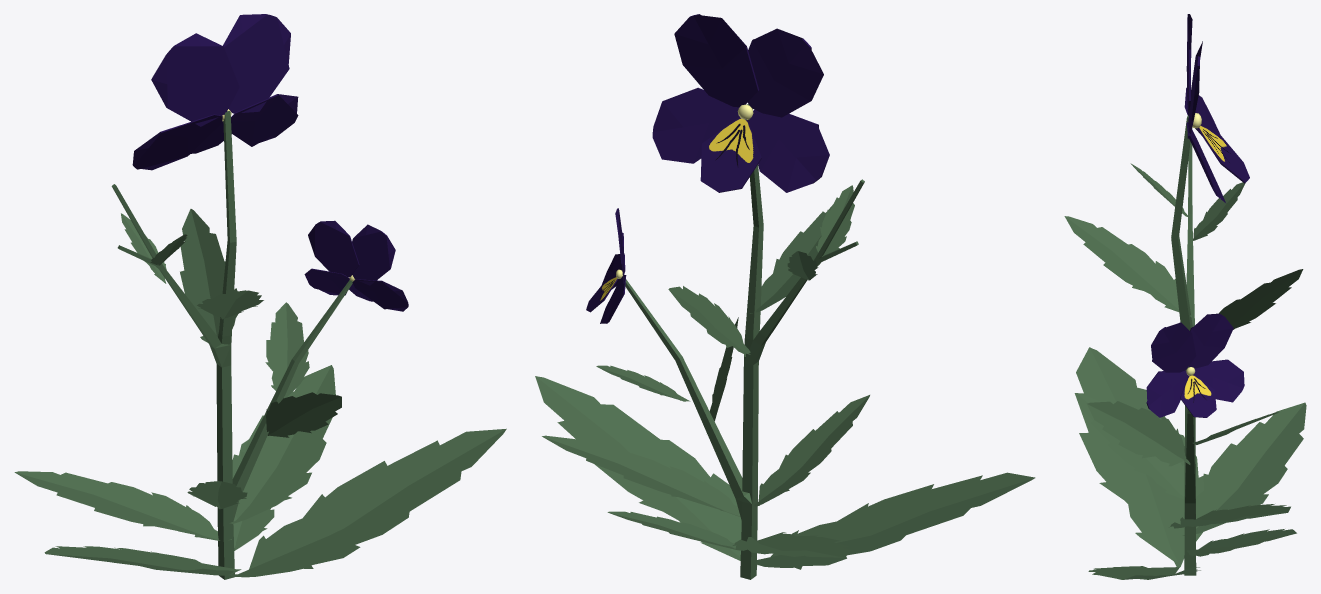
The model's file is wild-pansy.fbx.
The picture shows the model from 3 angles, left to right: view 1: azimuth 30°, elevation 25°; view 2: azimuth 150°, elevation 25°; view 3: azimuth 270°, elevation 25°; orthographic projection. The views are drawn at different scales.
Visible parts, largest first — view 1: Cube; view 2: Cube; view 3: Cube.
Part boxes in pixels (bbox=[...]): Cube: bbox=[14, 14, 506, 579]; Cube: bbox=[535, 14, 1035, 579]; Cube: bbox=[1064, 14, 1306, 579].
Size of the model in its own units: 259 by 286 by 116.
